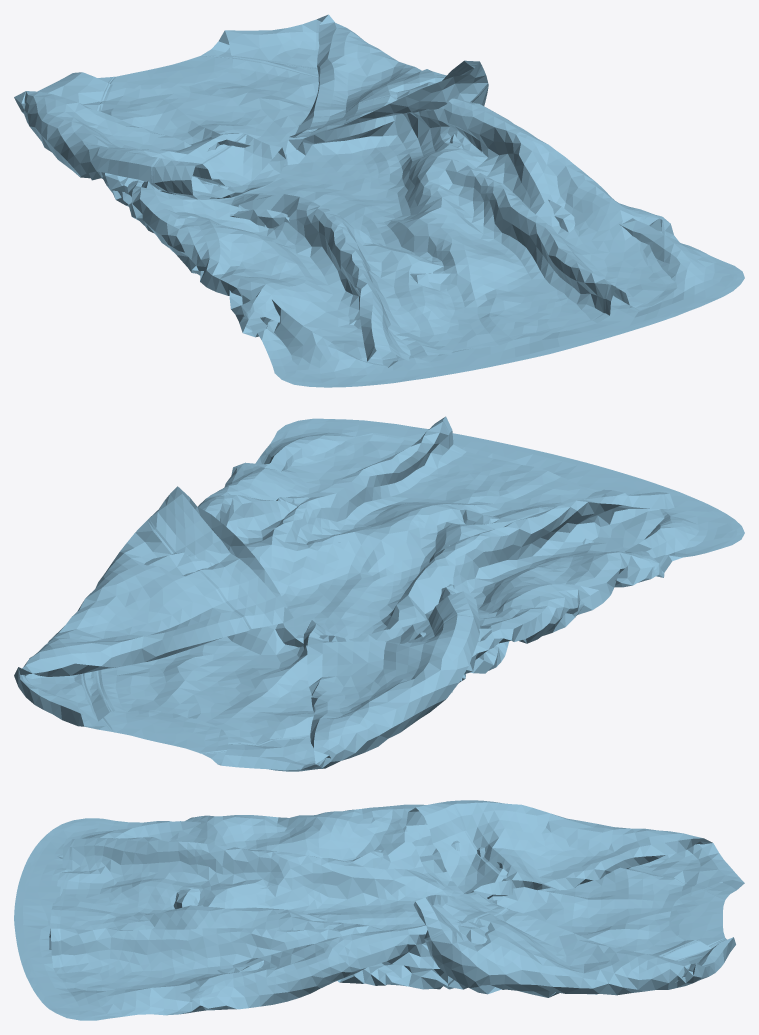
The model's file is frame_20.glb.
3 views of the same model, one above another, from view 1: azimuth 30°, elevation 25°; view 2: azimuth 150°, elevation 25°; view 3: azimuth 270°, elevation 25° (orthographic). The views are drawn at different scales.
Parts seen in each view (by area): view 1: frame_20.obj; view 2: frame_20.obj; view 3: frame_20.obj.
Part boxes in pixels (box(x1,y1,x2,y2)): frame_20.obj: box(14, 14, 744, 387); frame_20.obj: box(14, 416, 744, 771); frame_20.obj: box(14, 800, 744, 1020).
Size of the model in its own units: 1.19 by 0.2555 by 1.81.
